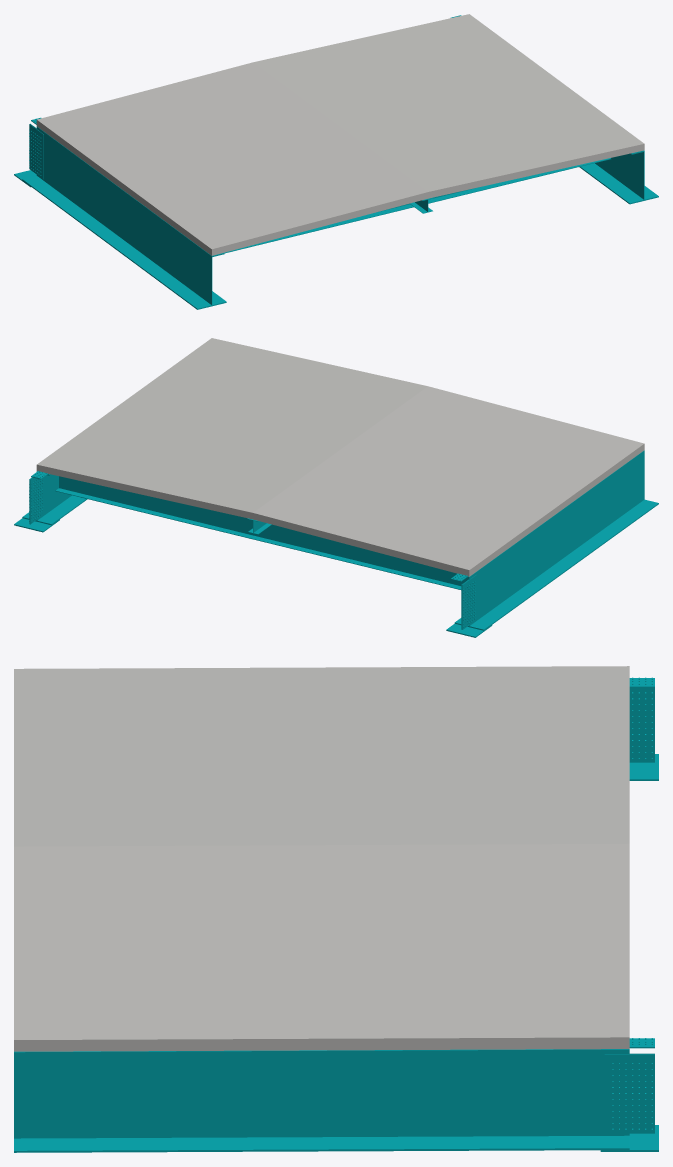
Rendered from DECK_NS05.glb.
The picture shows the model from 3 angles, top to bottom: view 1: azimuth 30°, elevation 25°; view 2: azimuth 150°, elevation 25°; view 3: azimuth 270°, elevation 25°; orthographic projection. The views are drawn at different scales.
Parts seen in each view (by area): view 1: NS05_Slab_15, NS05_G_W_0, NS05_G_E_1, NS05_FB_bf_14, NS05_SpliceW_17; view 2: NS05_Slab_15, NS05_G_W_0, NS05_FB_web_3, NS05_FB_bf_6, NS05_G_E_1, NS05_SpliceW_17, NS05_SpliceW_25; view 3: NS05_Slab_15, NS05_G_E_1, NS05_SpliceW_26, NS05_SpliceW_18.
Part boxes in pixels (box(x1,y1,x2,y2)): NS05_Slab_15: box(36, 14, 644, 255); NS05_G_W_0: box(22, 126, 226, 309); NS05_G_E_1: box(579, 150, 658, 204); NS05_FB_bf_14: box(224, 158, 610, 253); NS05_SpliceW_17: box(29, 124, 43, 179); NS05_Slab_15: box(36, 338, 644, 576); NS05_G_W_0: box(454, 450, 658, 630); NS05_FB_web_3: box(59, 476, 468, 585); NS05_FB_bf_6: box(55, 488, 461, 589); NS05_G_E_1: box(22, 471, 87, 525); NS05_SpliceW_17: box(462, 574, 476, 629); NS05_SpliceW_25: box(30, 477, 44, 524); NS05_Slab_15: box(14, 666, 629, 1051); NS05_G_E_1: box(14, 1049, 629, 1152); NS05_SpliceW_26: box(604, 1054, 654, 1133); NS05_SpliceW_18: box(629, 688, 654, 762).
Bounding box in the file's own units: 18.26 × 2.39 × 12.57.
